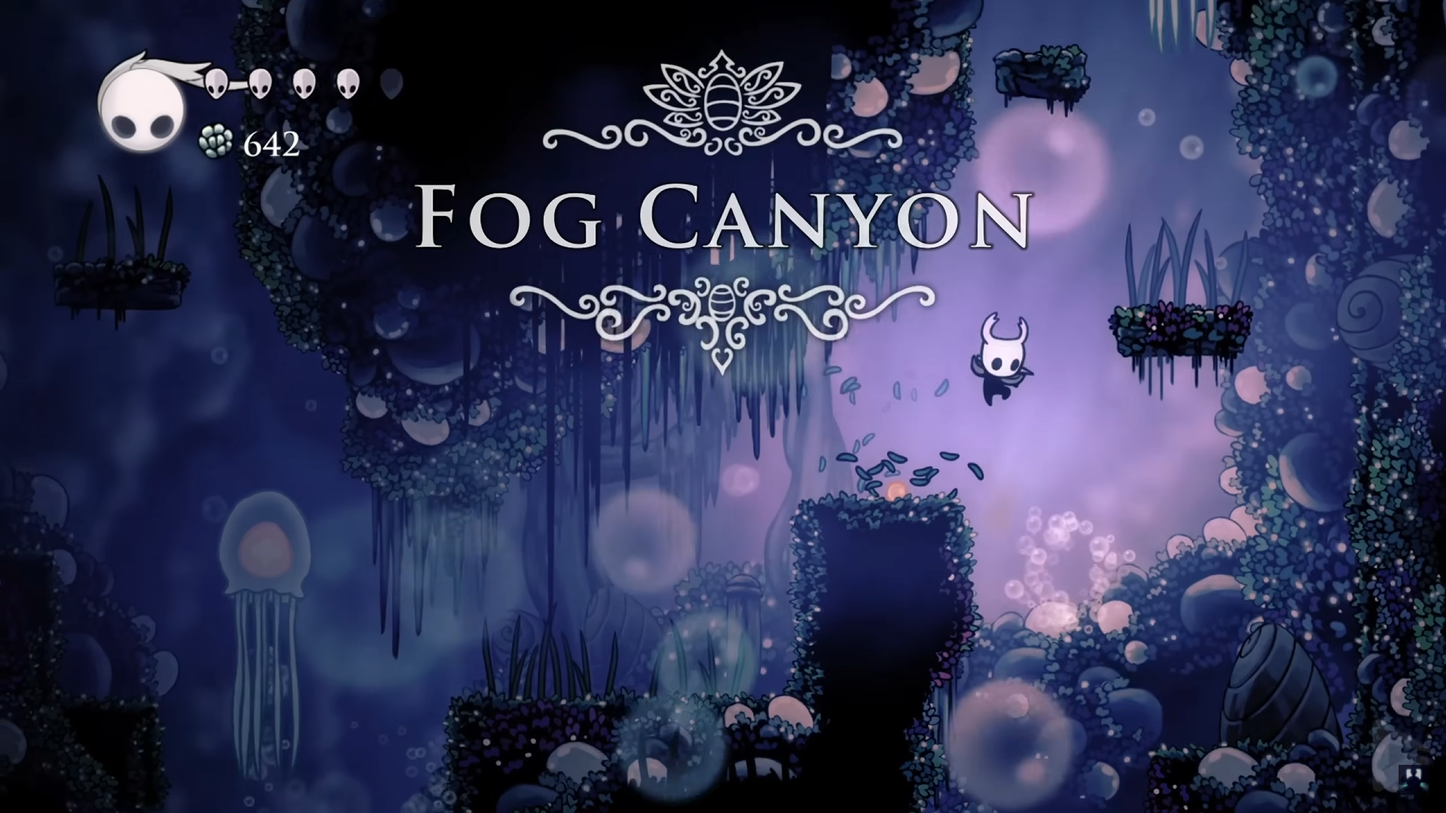HK: (972, 312, 1033, 409)
